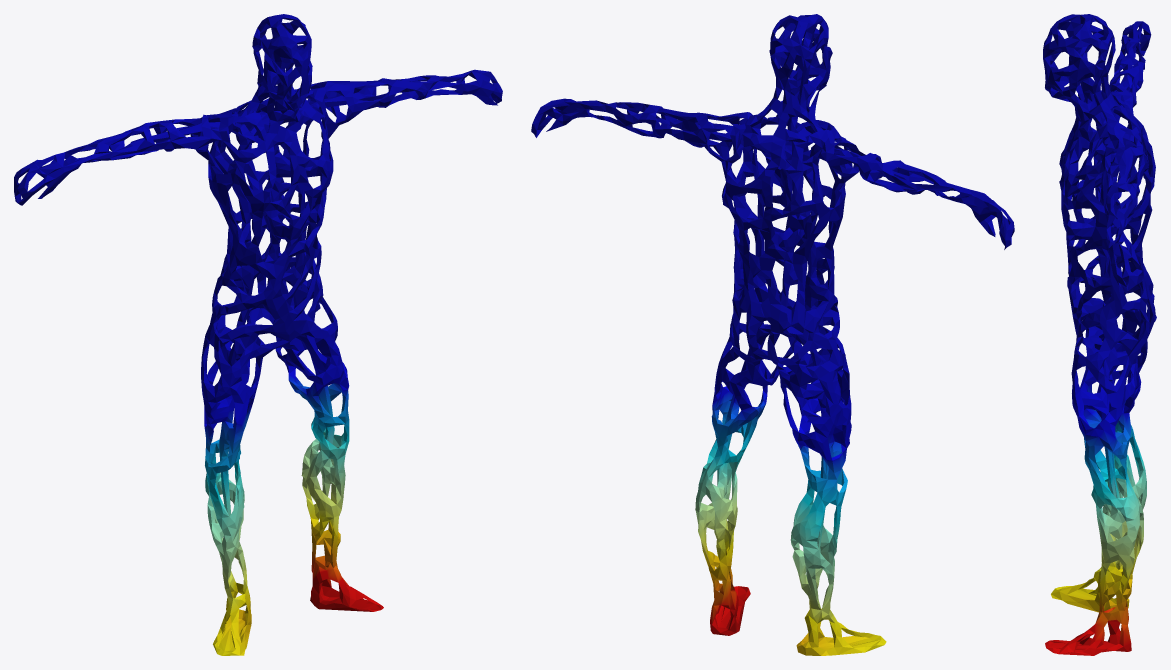
File: holey_error_poisson.glb
The picture shows the model from 3 angles, left to right: view 1: azimuth 30°, elevation 25°; view 2: azimuth 150°, elevation 25°; view 3: azimuth 270°, elevation 25°; orthographic projection.
Parts seen in each view (by area): view 1: holey_t.obj; view 2: holey_t.obj; view 3: holey_t.obj.
Part boxes in pixels (x1,y1,x2,y2): holey_t.obj: (14,14,502,655); holey_t.obj: (531,14,1014,655); holey_t.obj: (1043,14,1156,655).
Size of the model in its own units: 1.39 by 1.7 by 0.2885.
